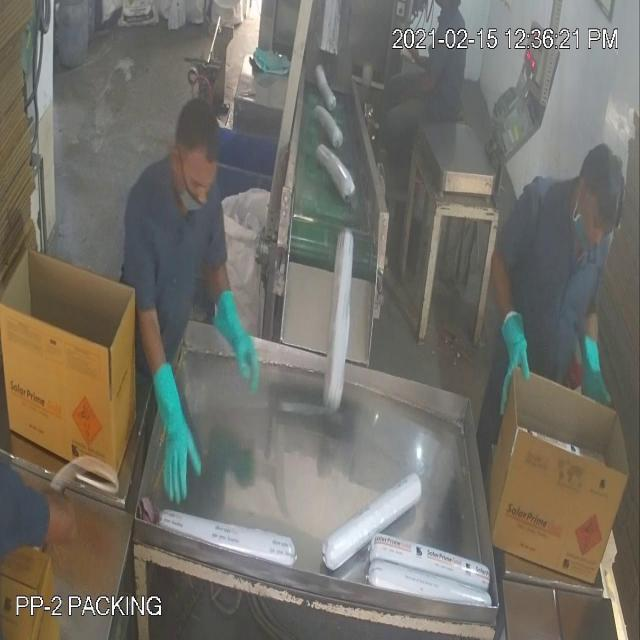Gloves: (48, 124, 514, 428)
